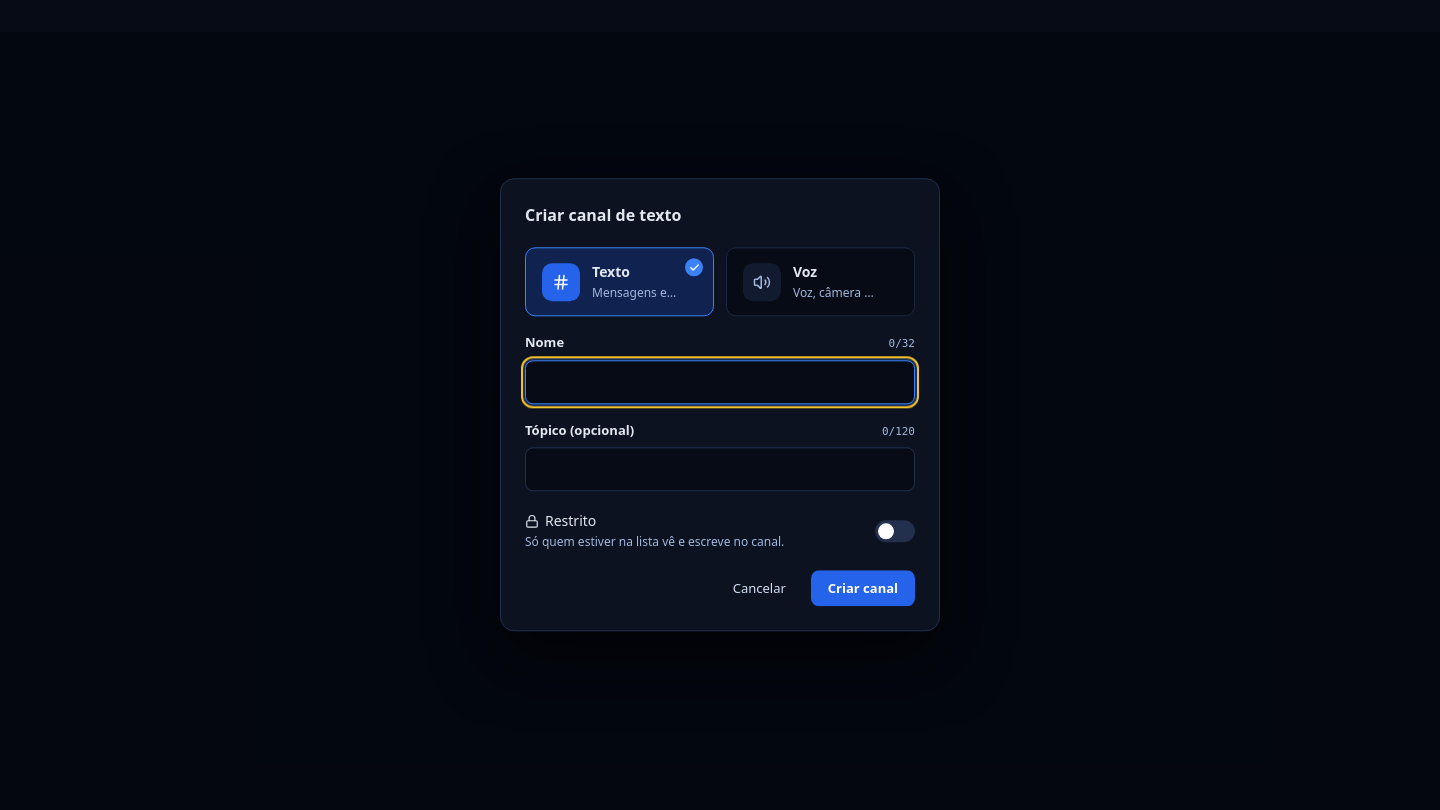
Test: os diálogos de canais › a API recusando, o erro aparece e o diálogo fica aberto
This screenshot has width=1440, height=810.
In the field labelled "Nome": [720, 382] box [525,360,915,404], type "com!"
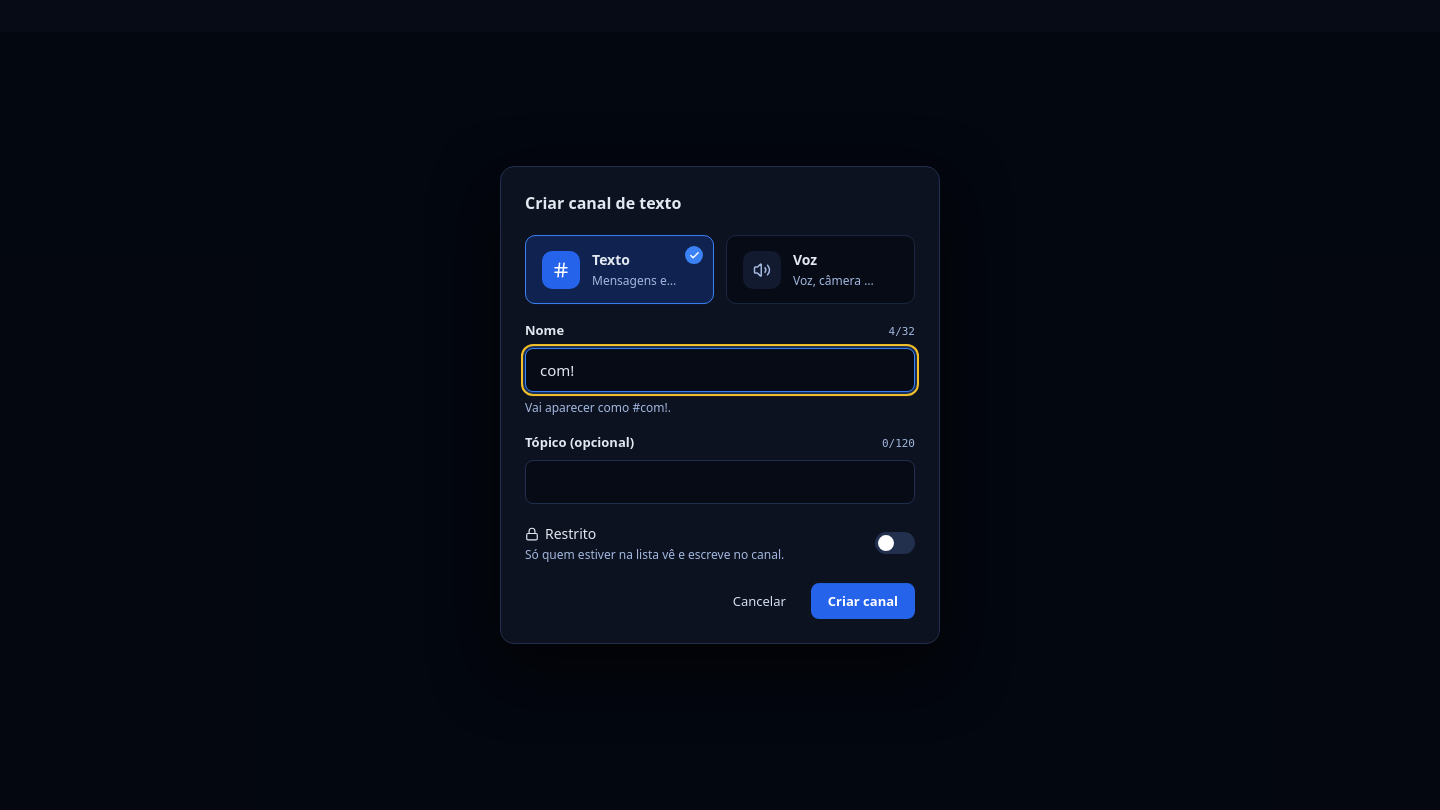
Click the button "Criar canal": [863, 601] box [811,583,915,619]
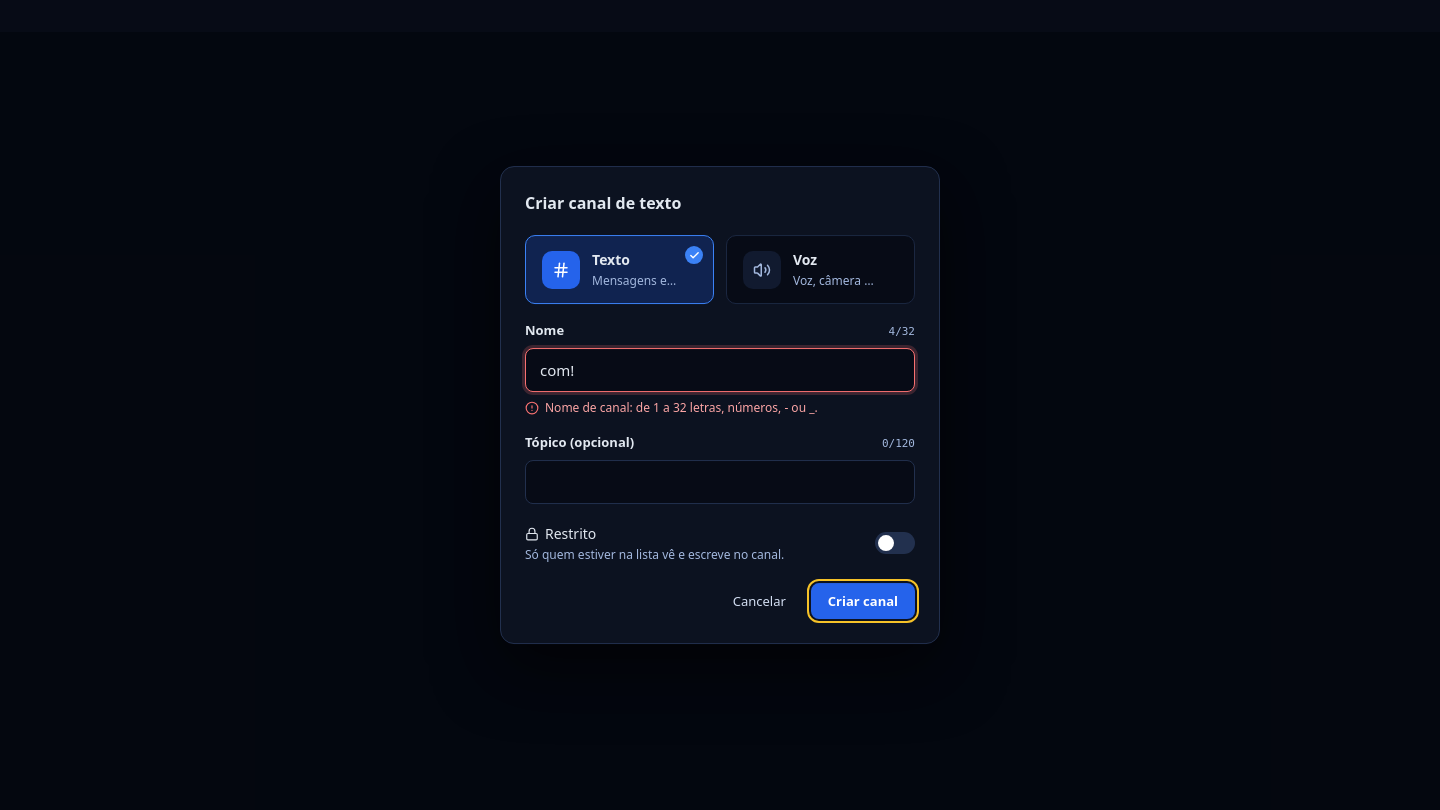
Expected: the text "Nome de canal: de 1 a 32 letras, números, - ou _." is shown, [525,399,818,416]
